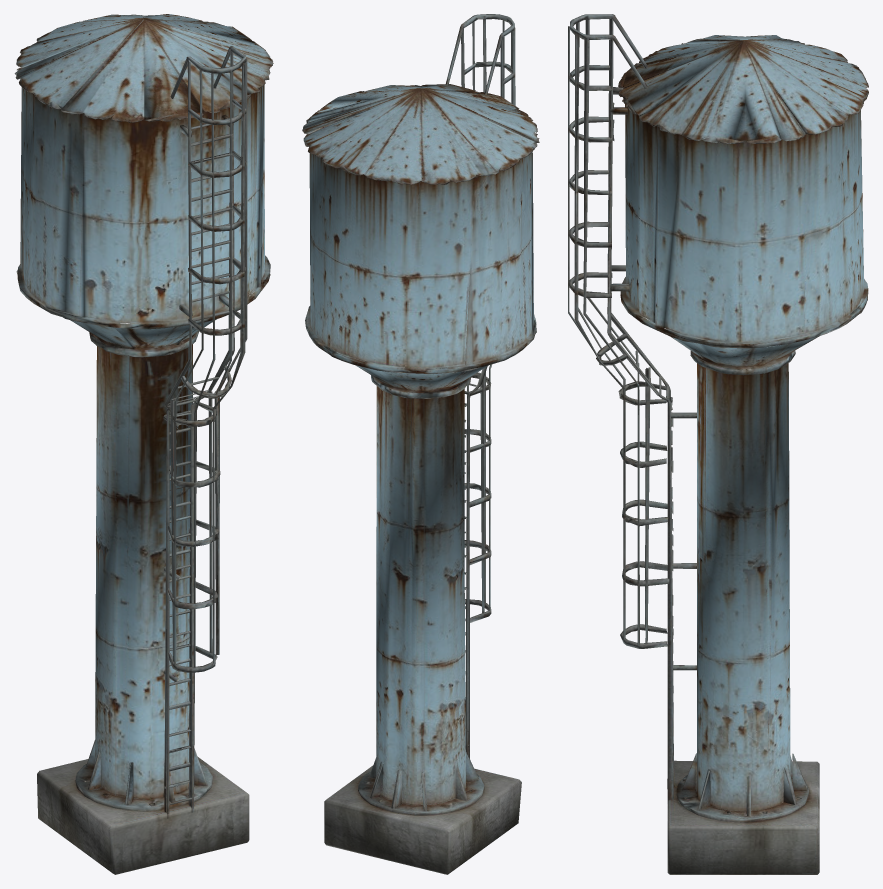
Rendered from wt_steel.glb.
The picture shows the model from 3 angles, left to right: view 1: azimuth 30°, elevation 25°; view 2: azimuth 150°, elevation 25°; view 3: azimuth 270°, elevation 25°; orthographic projection. The views are drawn at different scales.
Parts seen in each view (by area): view 1: wt_steel; view 2: wt_steel; view 3: wt_steel.
Part boxes in pixels (x1,y1,x2,y2): wt_steel: [14, 14, 273, 874]; wt_steel: [302, 14, 539, 874]; wt_steel: [568, 14, 868, 874].
Size of the model in its own units: 26.61 by 95.12 by 31.69.
1 material, 1 textured.
